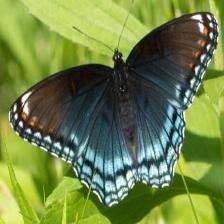butterfly: (10, 13, 218, 206)
